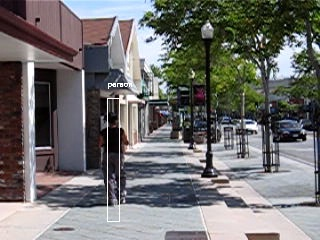person: (99, 111, 130, 205), (98, 111, 129, 205), (100, 111, 131, 205), (99, 110, 130, 204), (99, 112, 130, 206)
target_negative: (56, 26, 164, 182), (43, 220, 319, 232), (257, 166, 294, 227), (265, 84, 302, 134), (29, 235, 261, 239), (275, 100, 281, 103)
